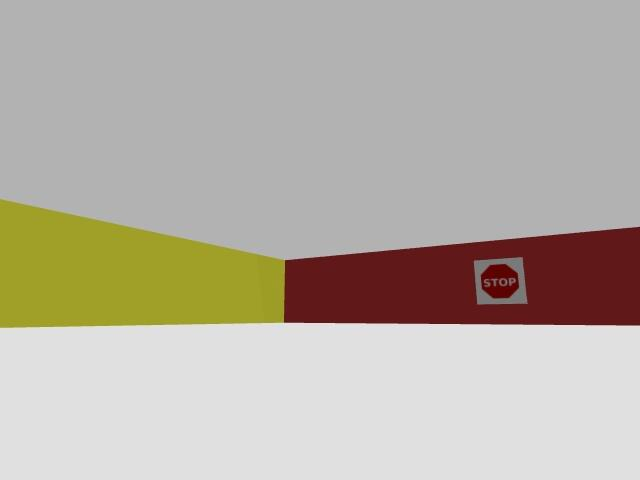stop: (475, 257, 527, 304)
